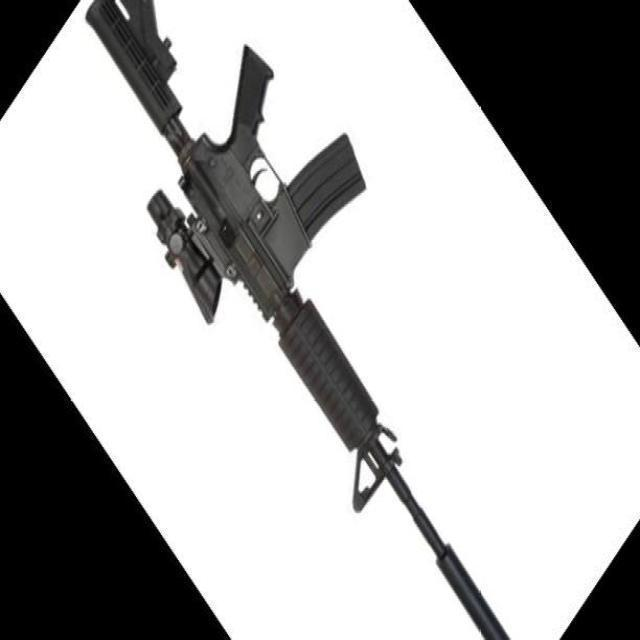Rifle: (84, 0, 512, 640)
